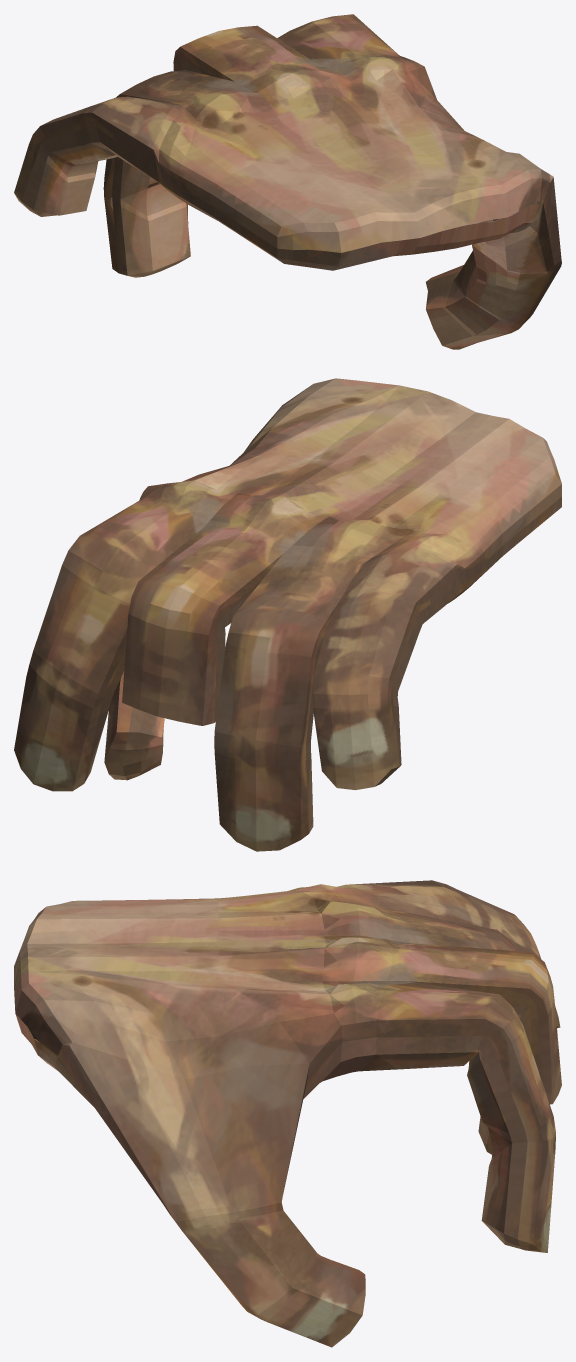
File: Hand_Left02.fbx
The picture shows the model from 3 angles, top to bottom: view 1: azimuth 30°, elevation 25°; view 2: azimuth 150°, elevation 25°; view 3: azimuth 270°, elevation 25°; orthographic projection. The views are drawn at different scales.
Parts seen in each view (by area): view 1: Hand_left02; view 2: Hand_left02; view 3: Hand_left02.
Boxes of the visible parts, <box> form: Hand_left02: <box>14,14,561,349</box>; Hand_left02: <box>14,378,561,851</box>; Hand_left02: <box>14,880,561,1347</box>.
Bounding box in the file's own units: 0.1384 × 0.1045 × 0.1596.
1 material, 1 textured.
